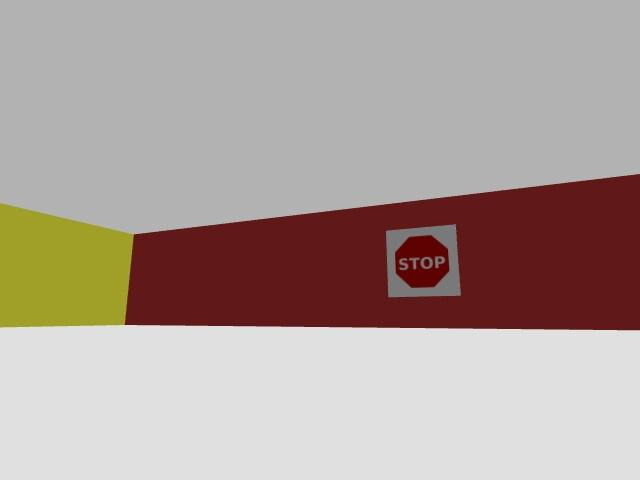stop: (387, 225, 460, 296)
